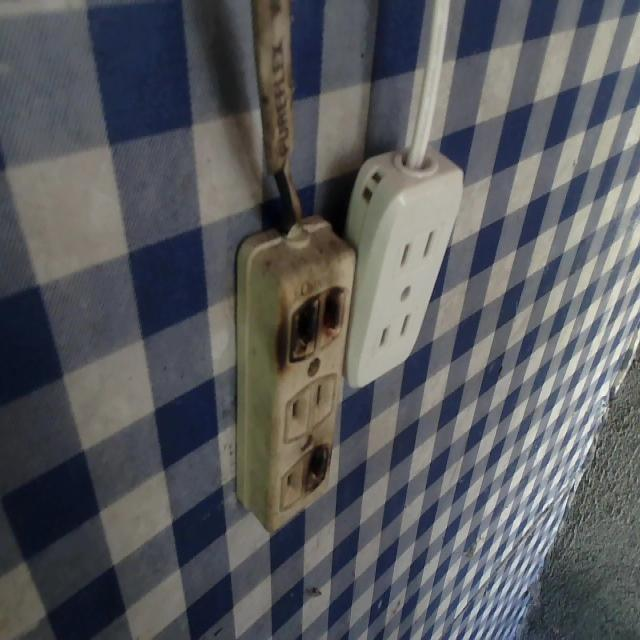-: (278, 281, 347, 363), (303, 438, 337, 494)
